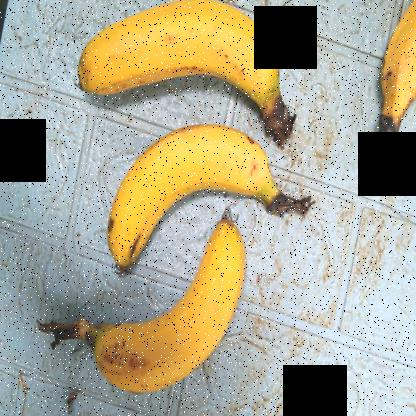freshripe: (100, 110, 292, 280), (91, 217, 252, 407), (70, 1, 302, 119), (352, 1, 416, 131)
